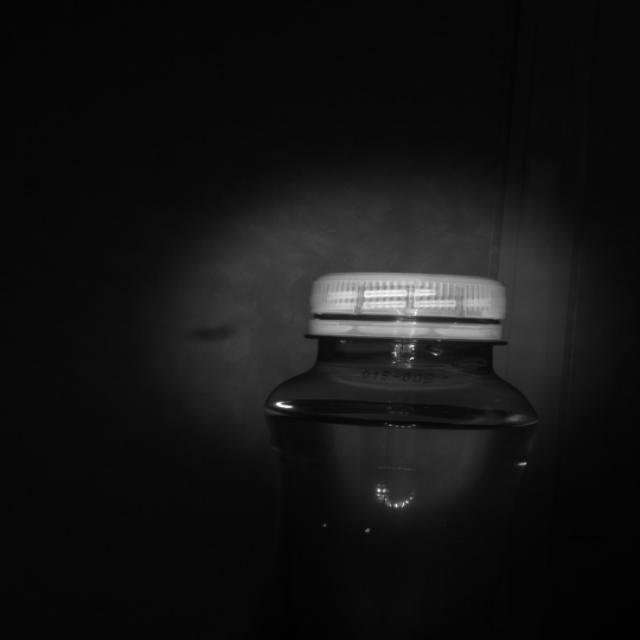Not Good: (310, 270, 505, 343)
